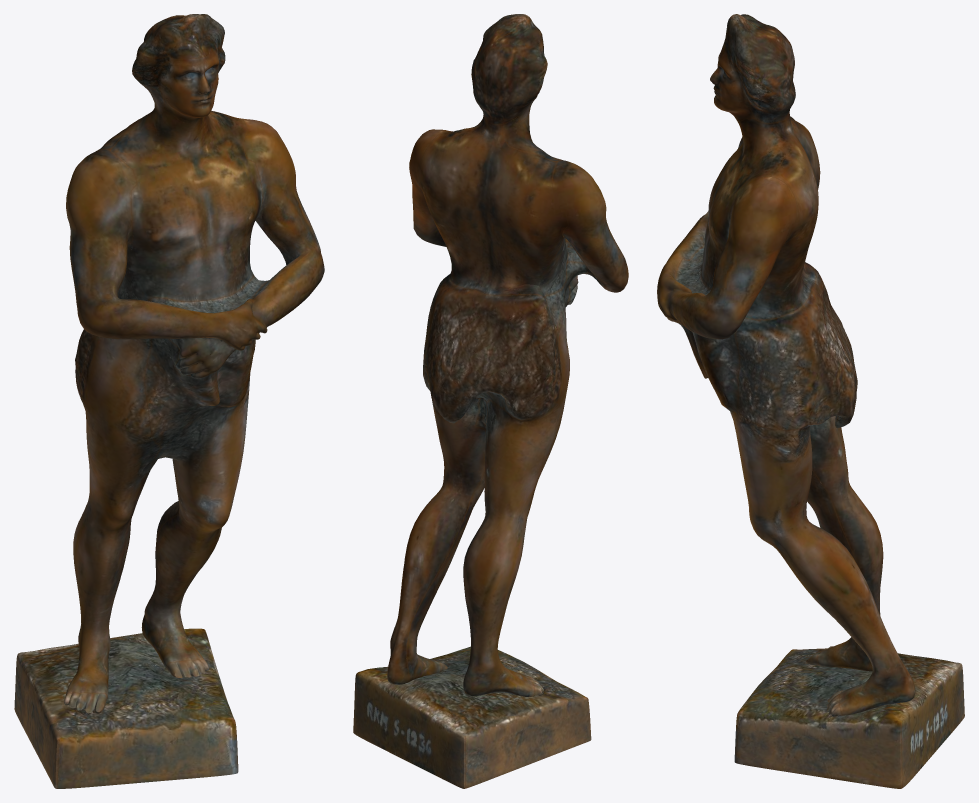
Rendered from kalevipoeg-eskiis.glb.
3 views of the same model, side by side, from view 1: azimuth 30°, elevation 25°; view 2: azimuth 150°, elevation 25°; view 3: azimuth 270°, elevation 25° (orthographic). The views are drawn at different scales.
Visible parts, largest first — view 1: Mesh; view 2: Mesh; view 3: Mesh.
Boxes of the visible parts, x1,y1,x2,y2 form: Mesh: (14,14,324,788); Mesh: (353,14,628,788); Mesh: (657,14,964,788).
Bounding box in the file's own units: 1.64 × 5.09 × 1.95.
1 material, 1 textured.
